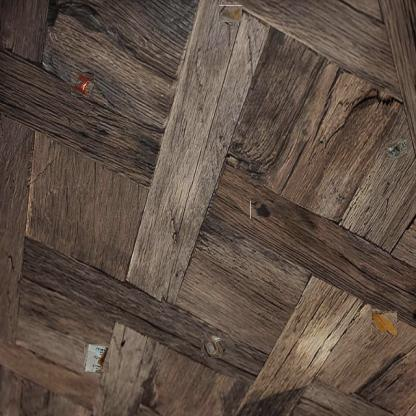dirty: (83, 343, 109, 373), (70, 71, 94, 97), (385, 138, 407, 160), (202, 335, 224, 357), (220, 4, 241, 24)
liquid: (371, 312, 397, 336), (250, 201, 271, 219)
